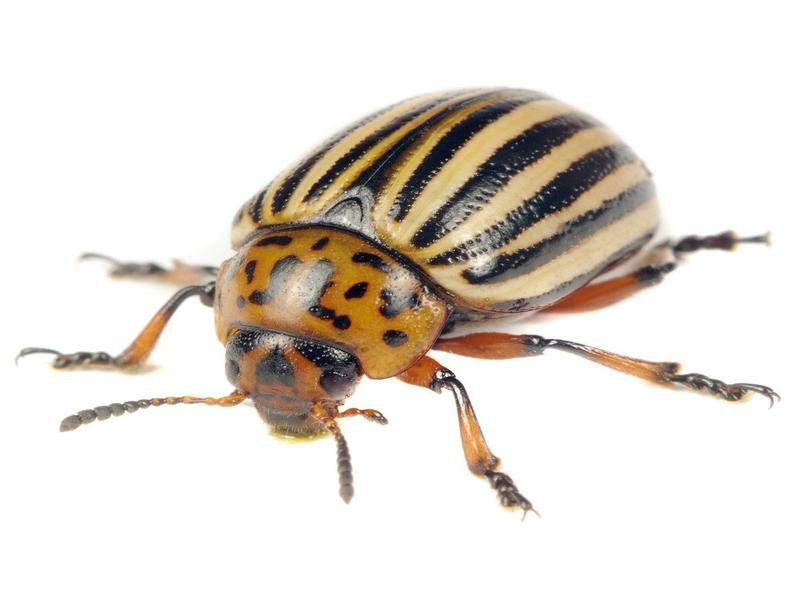hrosc: (207, 59, 686, 496)
